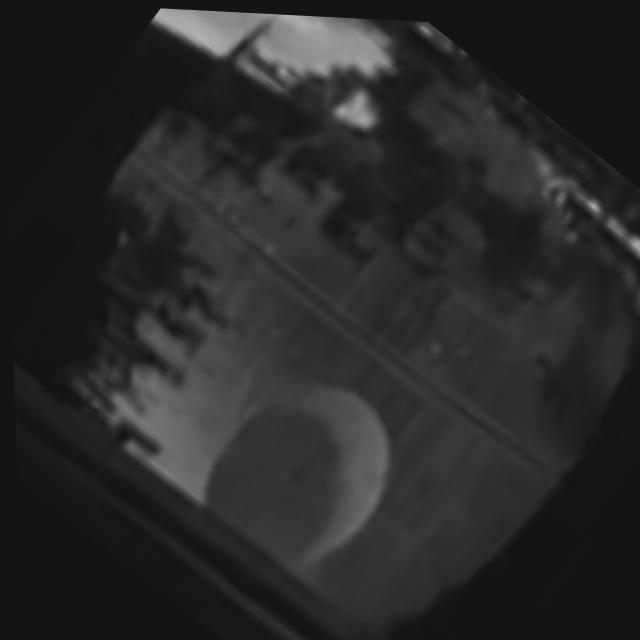death-stars: (66, 47, 640, 630)
